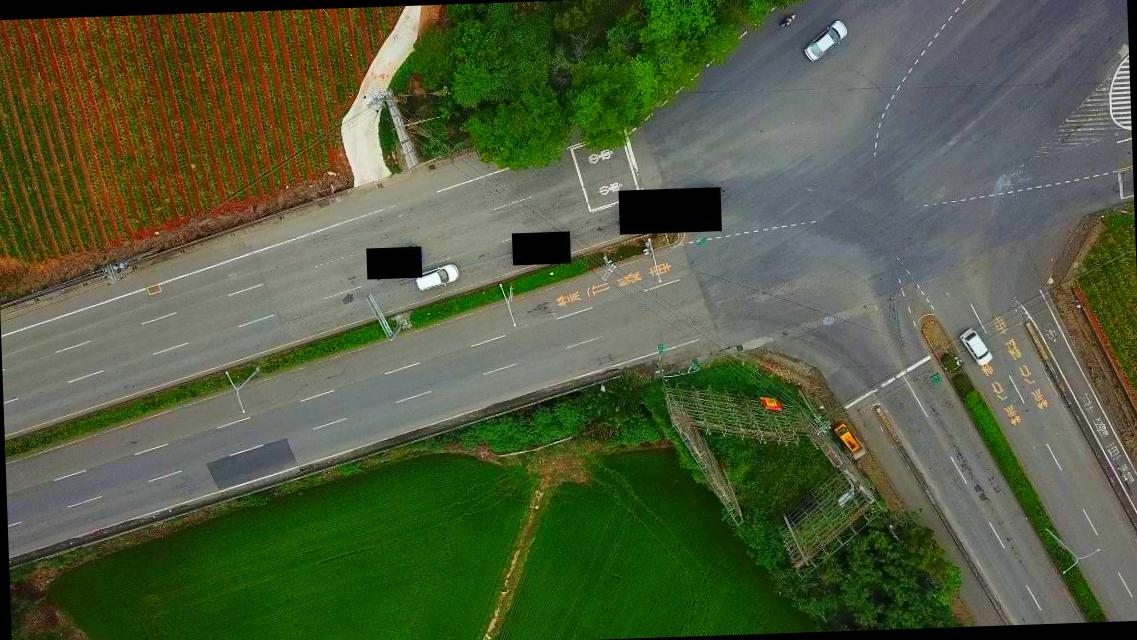vehicle: (802, 20, 848, 62), (412, 260, 459, 292), (960, 326, 990, 364), (832, 420, 858, 452)
